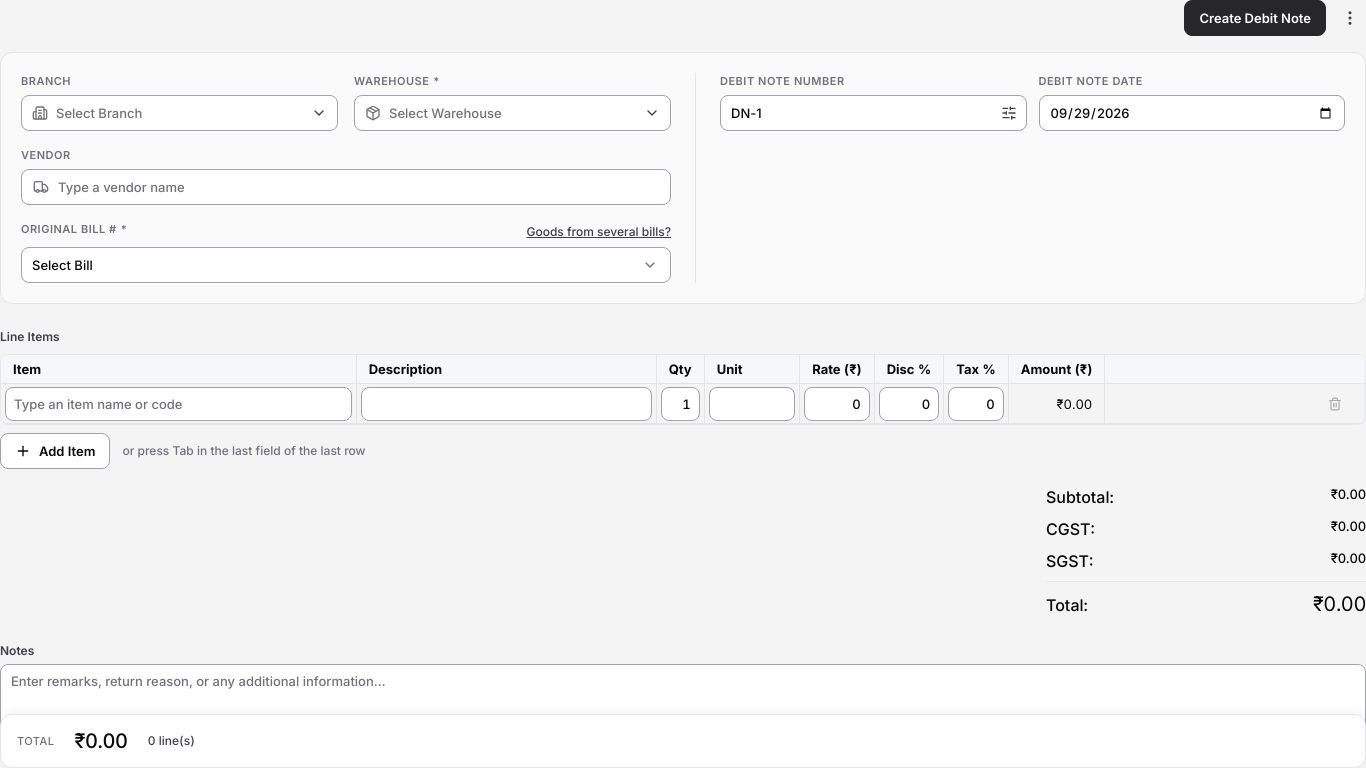
Test: the purchase return asks what the bill asks › carries the series control on the number field
Click the button named "Return numbering settings".
click(1008, 113)  # box top-left (994, 99), bottom-right (1022, 127)
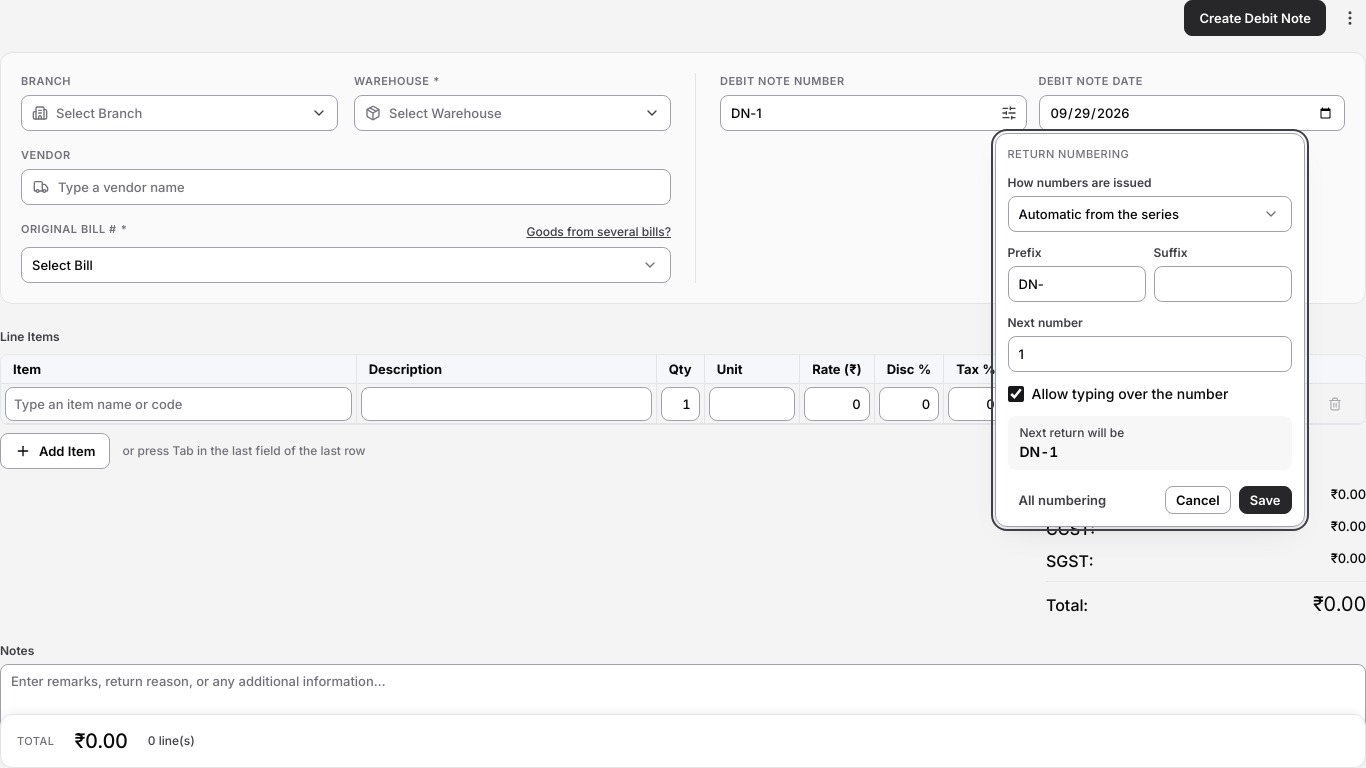
Now the text "Return numbering" is shown, box top-left (1008, 147), bottom-right (1129, 161)
Now the text "Next return will be" is shown, box top-left (1020, 425), bottom-right (1124, 440)
